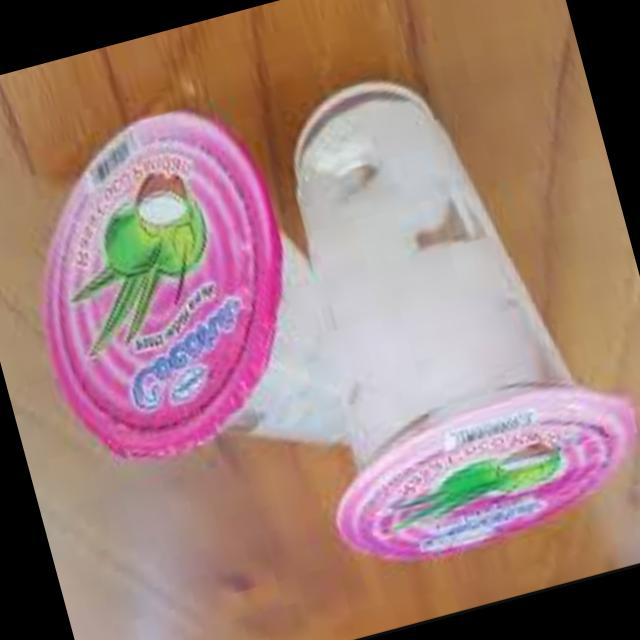GelasPlastik: (223, 28, 640, 592), (0, 76, 375, 531)
